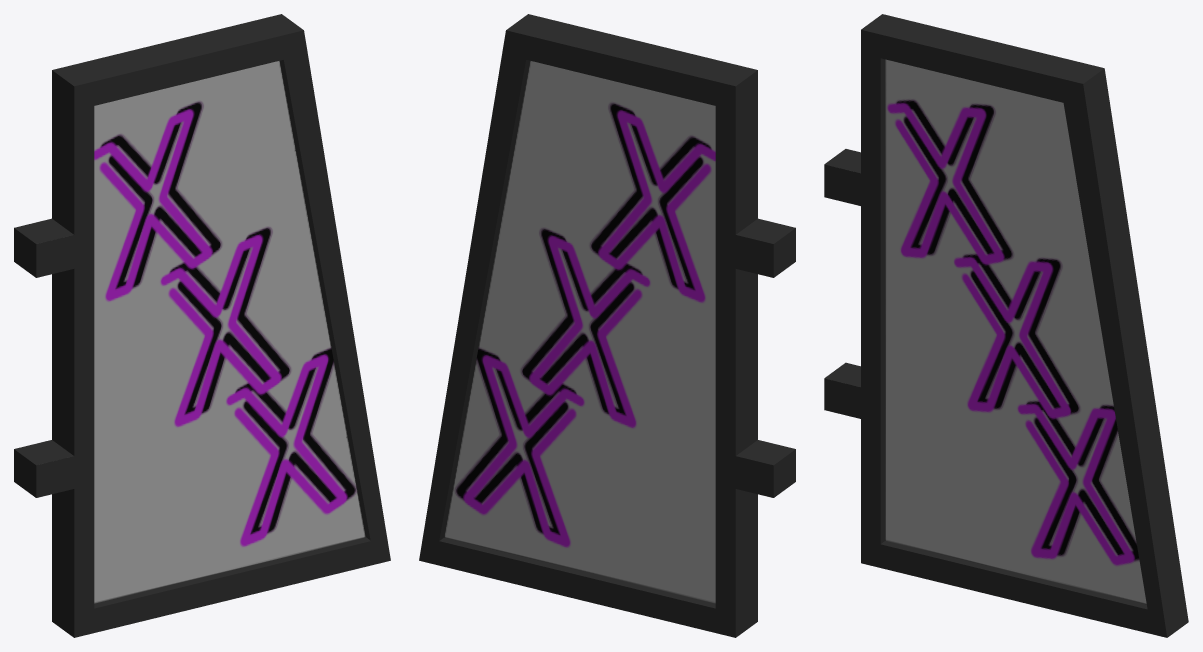
The model's file is neon.fbx.
3 views of the same model, side by side, from view 1: azimuth 30°, elevation 25°; view 2: azimuth 150°, elevation 25°; view 3: azimuth 330°, elevation 25° (orthographic). The views are drawn at different scales.
Parts seen in each view (by area): view 1: pCube2; view 2: pCube2; view 3: pCube2.
Part boxes in pixels (x1,y1,x2,y2): pCube2: (14, 14, 390, 637); pCube2: (419, 14, 795, 637); pCube2: (824, 14, 1188, 637).
Bounding box in the file's own units: 9.2 × 13.68 × 1.
